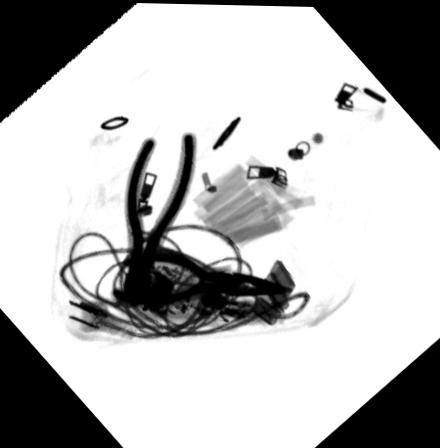Pliers: (123, 128, 196, 308), (109, 246, 286, 308)
